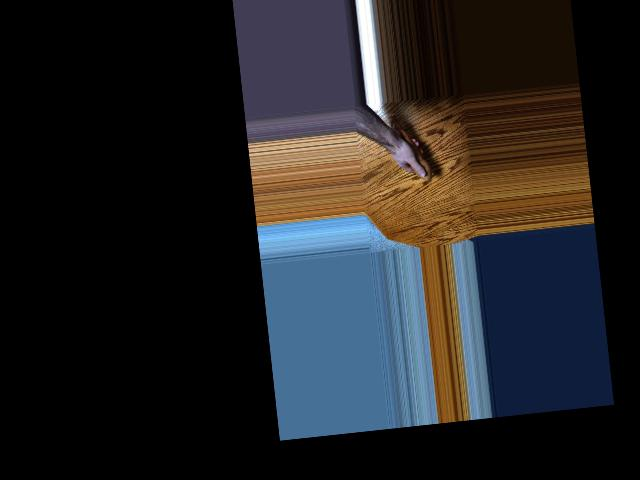sweet_potato: (385, 106, 434, 185)
